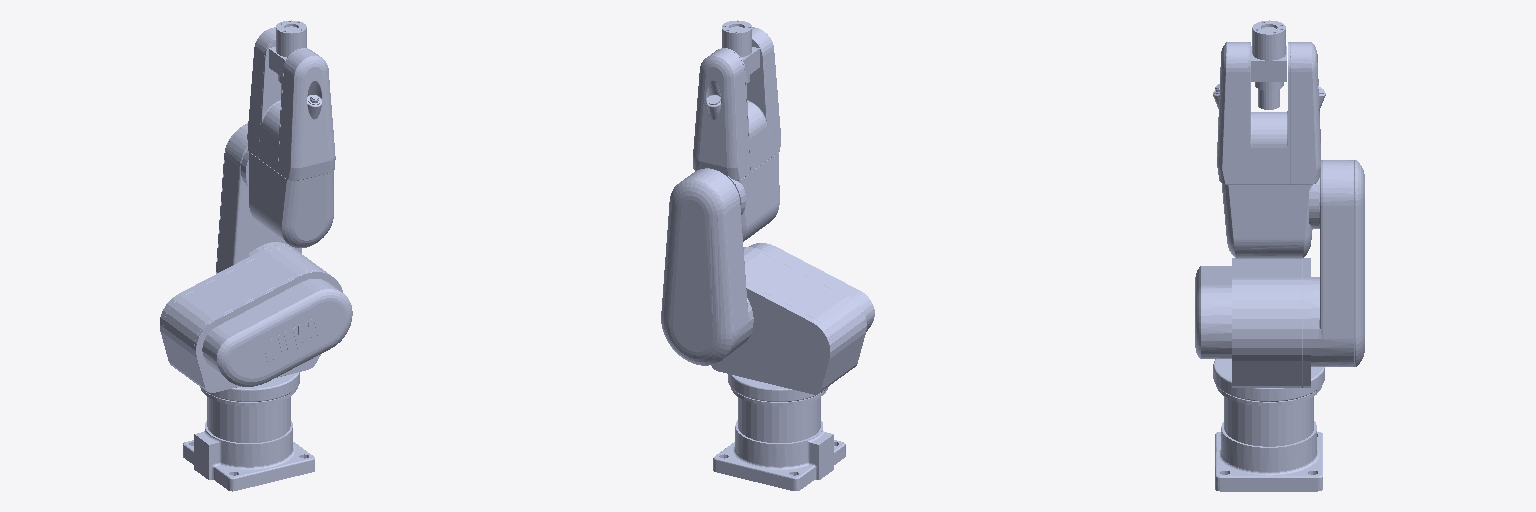
URDF robot description (m6r):
<?xml version="1.0" encoding="utf-8"?>
<!-- This URDF was automatically created by SolidWorks to URDF Exporter! Originally created by [author] ([email redacted]) 
     Commit Version: 1.6.0-4-g7f85cfe  Build Version: 1.6.7995.38578
     For more information, please see http://wiki.ros.org/sw_urdf_exporter -->
<robot
  name="m6r">
  <link
    name="base_link">
    <inertial>
      <origin
        xyz="-0.001886 0.077658 4.2267E-10"
        rpy="0 0 0" />
      <mass
        value="4.7424" />
      <inertia
        ixx="0.023491"
        ixy="-0.00027982"
        ixz="1.7111E-10"
        iyy="0.02209"
        iyz="5.259E-11"
        izz="0.024355" />
    </inertial>
    <visual>
      <origin
        xyz="0 0 0"
        rpy="0 0 0" />
      <geometry>
        <mesh
          filename="package://m6r_description/meshes/base_link.STL" />
      </geometry>
      <material
        name="">
        <color
          rgba="0.79216 0.81961 0.93333 1" />
      </material>
    </visual>
    <collision>
      <origin
        xyz="0 0 0"
        rpy="0 0 0" />
      <geometry>
        <mesh
          filename="package://m6r_description/meshes/base_link.STL" />
      </geometry>
    </collision>
  </link>
  <link
    name="waist_link">
    <inertial>
      <origin
        xyz="0.01397 -0.015936 0.13297"
        rpy="0 0 0" />
      <mass
        value="13.487" />
      <inertia
        ixx="0.10312"
        ixy="-0.0027943"
        ixz="-0.017519"
        iyy="0.15426"
        iyz="0.0041824"
        izz="0.1509" />
    </inertial>
    <visual>
      <origin
        xyz="0 0 0"
        rpy="0 0 0" />
      <geometry>
        <mesh
          filename="package://m6r_description/meshes/waist_link.STL" />
      </geometry>
      <material
        name="">
        <color
          rgba="0.79216 0.81961 0.93333 1" />
      </material>
    </visual>
    <collision>
      <origin
        xyz="0 0 0"
        rpy="0 0 0" />
      <geometry>
        <mesh
          filename="package://m6r_description/meshes/waist_link.STL" />
      </geometry>
    </collision>
  </link>
  <joint
    name="joint1"
    type="revolute">
    <origin
      xyz="0 0 0.175"
      rpy="0 0 0" />
    <parent
      link="base_link" />
    <child
      link="waist_link" />
    <axis
      xyz="0 0 1" />
    <limit
      lower="-3.14"
      upper="3.14"
      effort="10"
      velocity="50" />
  </joint>
  <link
    name="shoulder_link">
    <inertial>
      <origin
        xyz="-0.051376 0.041747 0.10108"
        rpy="0 0 0" />
      <mass
        value="4.7638" />
      <inertia
        ixx="0.050589"
        ixy="1.3908E-06"
        ixz="0.020141"
        iyy="0.066303"
        iyz="-2.7104E-06"
        izz="0.021199" />
    </inertial>
    <visual>
      <origin
        xyz="0 0 0"
        rpy="0 0 0" />
      <geometry>
        <mesh
          filename="package://m6r_description/meshes/shoulder_link.STL" />
      </geometry>
      <material
        name="">
        <color
          rgba="0.79216 0.81961 0.93333 1" />
      </material>
    </visual>
    <collision>
      <origin
        xyz="0 0 0"
        rpy="0 0 0" />
      <geometry>
        <mesh
          filename="package://m6r_description/meshes/shoulder_link.STL" />
      </geometry>
    </collision>
  </link>
  <joint
    name="joint2"
    type="revolute">
    <origin
      xyz="0.1 0.094 0.175"
      rpy="0 0.47024 0" />
    <parent
      link="waist_link" />
    <child
      link="shoulder_link" />
    <axis
      xyz="0 1 0" />
    <limit
      lower="-3.14"
      upper="3.14"
      effort="10"
      velocity="50" />
  </joint>
  <link
    name="elbow_link">
    <inertial>
      <origin
        xyz="-0.032446 -0.089942 -4.6879E-07"
        rpy="0 0 0" />
      <mass
        value="3.1983" />
      <inertia
        ixx="0.011223"
        ixy="-0.00041339"
        ixz="-6.0881E-08"
        iyy="0.010279"
        iyz="-6.8224E-08"
        izz="0.014656" />
    </inertial>
    <visual>
      <origin
        xyz="0 0 0"
        rpy="0 0 0" />
      <geometry>
        <mesh
          filename="package://m6r_description/meshes/elbow_link.STL" />
      </geometry>
      <material
        name="">
        <color
          rgba="0.79216 0.81961 0.93333 1" />
      </material>
    </visual>
    <collision>
      <origin
        xyz="0 0 0"
        rpy="0 0 0" />
      <geometry>
        <mesh
          filename="package://m6r_description/meshes/elbow_link.STL" />
      </geometry>
    </collision>
  </link>
  <joint
    name="joint3"
    type="revolute">
    <origin
      xyz="-0.12007 0 0.23624"
      rpy="3.1416 -1.1006 3.1416" />
    <parent
      link="shoulder_link" />
    <child
      link="elbow_link" />
    <axis
      xyz="0 1 0" />
    <limit
      lower="-3.14"
      upper="3.14"
      effort="10"
      velocity="50" />
  </joint>
  <link
    name="forearm_link">
    <inertial>
      <origin
        xyz="0.10468 -3.9216E-05 -5.056E-06"
        rpy="0 0 0" />
      <mass
        value="3.5743" />
      <inertia
        ixx="0.015239"
        ixy="1.0219E-05"
        ixz="-2.9814E-06"
        iyy="0.020979"
        iyz="-1.7512E-07"
        izz="0.030802" />
    </inertial>
    <visual>
      <origin
        xyz="0 0 0"
        rpy="0 0 0" />
      <geometry>
        <mesh
          filename="package://m6r_description/meshes/forearm_link.STL" />
      </geometry>
      <material
        name="">
        <color
          rgba="0.79216 0.81961 0.93333 1" />
      </material>
    </visual>
    <collision>
      <origin
        xyz="0 0 0"
        rpy="0 0 0" />
      <geometry>
        <mesh
          filename="package://m6r_description/meshes/forearm_link.STL" />
      </geometry>
    </collision>
  </link>
  <joint
    name="joint4"
    type="revolute">
    <origin
      xyz="0.044963 -0.094 0"
      rpy="0 0 0" />
    <parent
      link="elbow_link" />
    <child
      link="forearm_link" />
    <axis
      xyz="1 0 0" />
    <limit
      lower="-3.14"
      upper="3.14"
      effort="10"
      velocity="50" />
  </joint>
  <link
    name="wriste_pitch">
    <inertial>
      <origin
        xyz="-0.01713 6.1831E-16 -1.3878E-17"
        rpy="0 0 0" />
      <mass
        value="0.29578" />
      <inertia
        ixx="0.00018202"
        ixy="1.8782E-20"
        ixz="2.4432E-20"
        iyy="0.00031068"
        iyz="-6.232E-21"
        izz="0.00030866" />
    </inertial>
    <visual>
      <origin
        xyz="0 0 0"
        rpy="0 0 0" />
      <geometry>
        <mesh
          filename="package://m6r_description/meshes/wriste_pitch.STL" />
      </geometry>
      <material
        name="">
        <color
          rgba="0.79216 0.81961 0.93333 1" />
      </material>
    </visual>
    <collision>
      <origin
        xyz="0 0 0"
        rpy="0 0 0" />
      <geometry>
        <mesh
          filename="package://m6r_description/meshes/wriste_pitch.STL" />
      </geometry>
    </collision>
  </link>
  <joint
    name="joint5"
    type="revolute">
    <origin
      xyz="0.22504 0 0"
      rpy="0 0 0" />
    <parent
      link="forearm_link" />
    <child
      link="wriste_pitch" />
    <axis
      xyz="0 1 0" />
    <limit
      lower="-3.14"
      upper="3.14"
      effort="10"
      velocity="50" />
  </joint>
  <link
    name="wriste_roll">
    <inertial>
      <origin
        xyz="0.037109 -4.1633E-16 -2.8774E-05"
        rpy="0 0 0" />
      <mass
        value="0.16216" />
      <inertia
        ixx="8.199E-05"
        ixy="4.2483E-19"
        ixz="1.1467E-07"
        iyy="7.8296E-05"
        iyz="-9.4868E-20"
        izz="7.8412E-05" />
    </inertial>
    <visual>
      <origin
        xyz="0 0 0"
        rpy="0 0 0" />
      <geometry>
        <mesh
          filename="package://m6r_description/meshes/wriste_roll.STL" />
      </geometry>
      <material
        name="">
        <color
          rgba="0.79216 0.81961 0.93333 1" />
      </material>
    </visual>
    <collision>
      <origin
        xyz="0 0 0"
        rpy="0 0 0" />
      <geometry>
        <mesh
          filename="package://m6r_description/meshes/wriste_roll.STL" />
      </geometry>
    </collision>
  </link>
  <joint
    name="joint6"
    type="revolute">
    <origin
      xyz="0.01 0 0"
      rpy="-1.9321 0 0" />
    <parent
      link="wriste_pitch" />
    <child
      link="wriste_roll" />
    <axis
      xyz="1 0 0" />
    <limit
      lower="-3.14"
      upper="3.14"
      effort="10"
      velocity="50" />
  </joint>
</robot>

--- Render facts (derived) ---
Views: 3 orthographic renders of the robot side by side, from view 1: azimuth 30°, elevation 25°; view 2: azimuth 150°, elevation 25°; view 3: azimuth 270°, elevation 25°.
Model m6r with 7 links and 6 joints (6 revolute), rooted at base_link, posed every joint at zero.
Visible links, largest first — view 1: waist_link, forearm_link, base_link, elbow_link, shoulder_link, wriste_roll; view 2: waist_link, shoulder_link, forearm_link, base_link, elbow_link, wriste_roll; view 3: waist_link, forearm_link, shoulder_link, base_link, elbow_link, wriste_pitch, wriste_roll.
Link boxes in pixels (box(x1,y1,x2,y2)): waist_link: box(160, 242, 352, 406); forearm_link: box(247, 27, 335, 180); base_link: box(183, 397, 314, 491); elbow_link: box(241, 150, 333, 247); shoulder_link: box(216, 123, 301, 273); wriste_roll: box(276, 20, 306, 56); waist_link: box(711, 243, 874, 406); shoulder_link: box(661, 168, 749, 365); forearm_link: box(693, 27, 780, 180); base_link: box(713, 397, 845, 490); elbow_link: box(732, 152, 779, 241); wriste_roll: box(722, 20, 751, 56); waist_link: box(1195, 258, 1324, 406); forearm_link: box(1213, 42, 1325, 184); shoulder_link: box(1319, 160, 1364, 366); base_link: box(1215, 396, 1322, 491); elbow_link: box(1222, 180, 1318, 258); wriste_pitch: box(1251, 46, 1286, 109); wriste_roll: box(1252, 20, 1285, 60).
Size in the robot's own frame: 0.3509 by 0.3197 by 0.96 metres.
Meshes: 7 distinct files referenced, 7 mesh visuals loaded (7 binary STL).